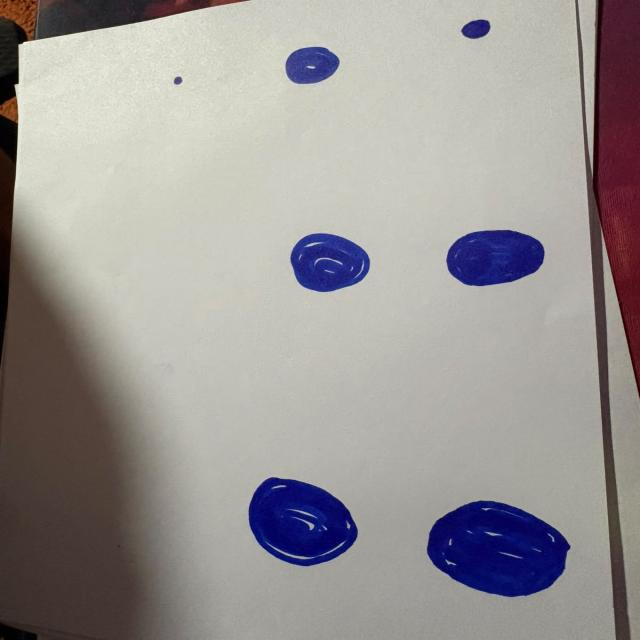Circle: (427, 500, 573, 599), (247, 475, 361, 569), (443, 229, 545, 287), (289, 232, 371, 293), (284, 45, 340, 85), (458, 18, 494, 41), (172, 76, 184, 86)
